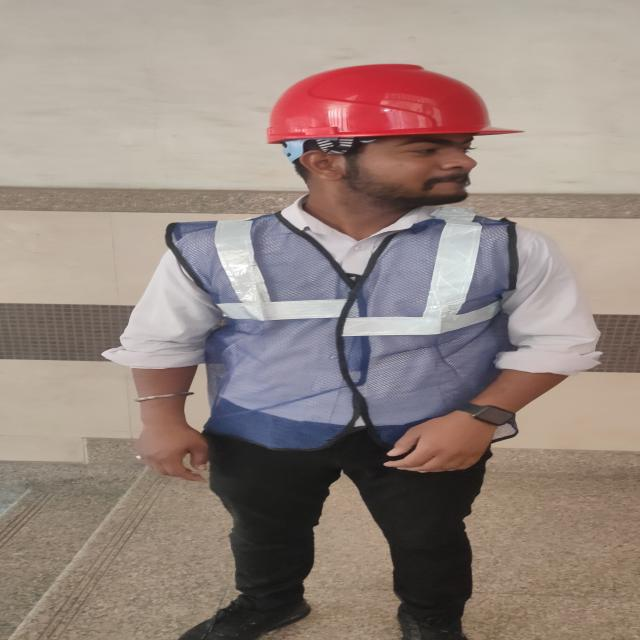safe: (142, 63, 596, 640)
